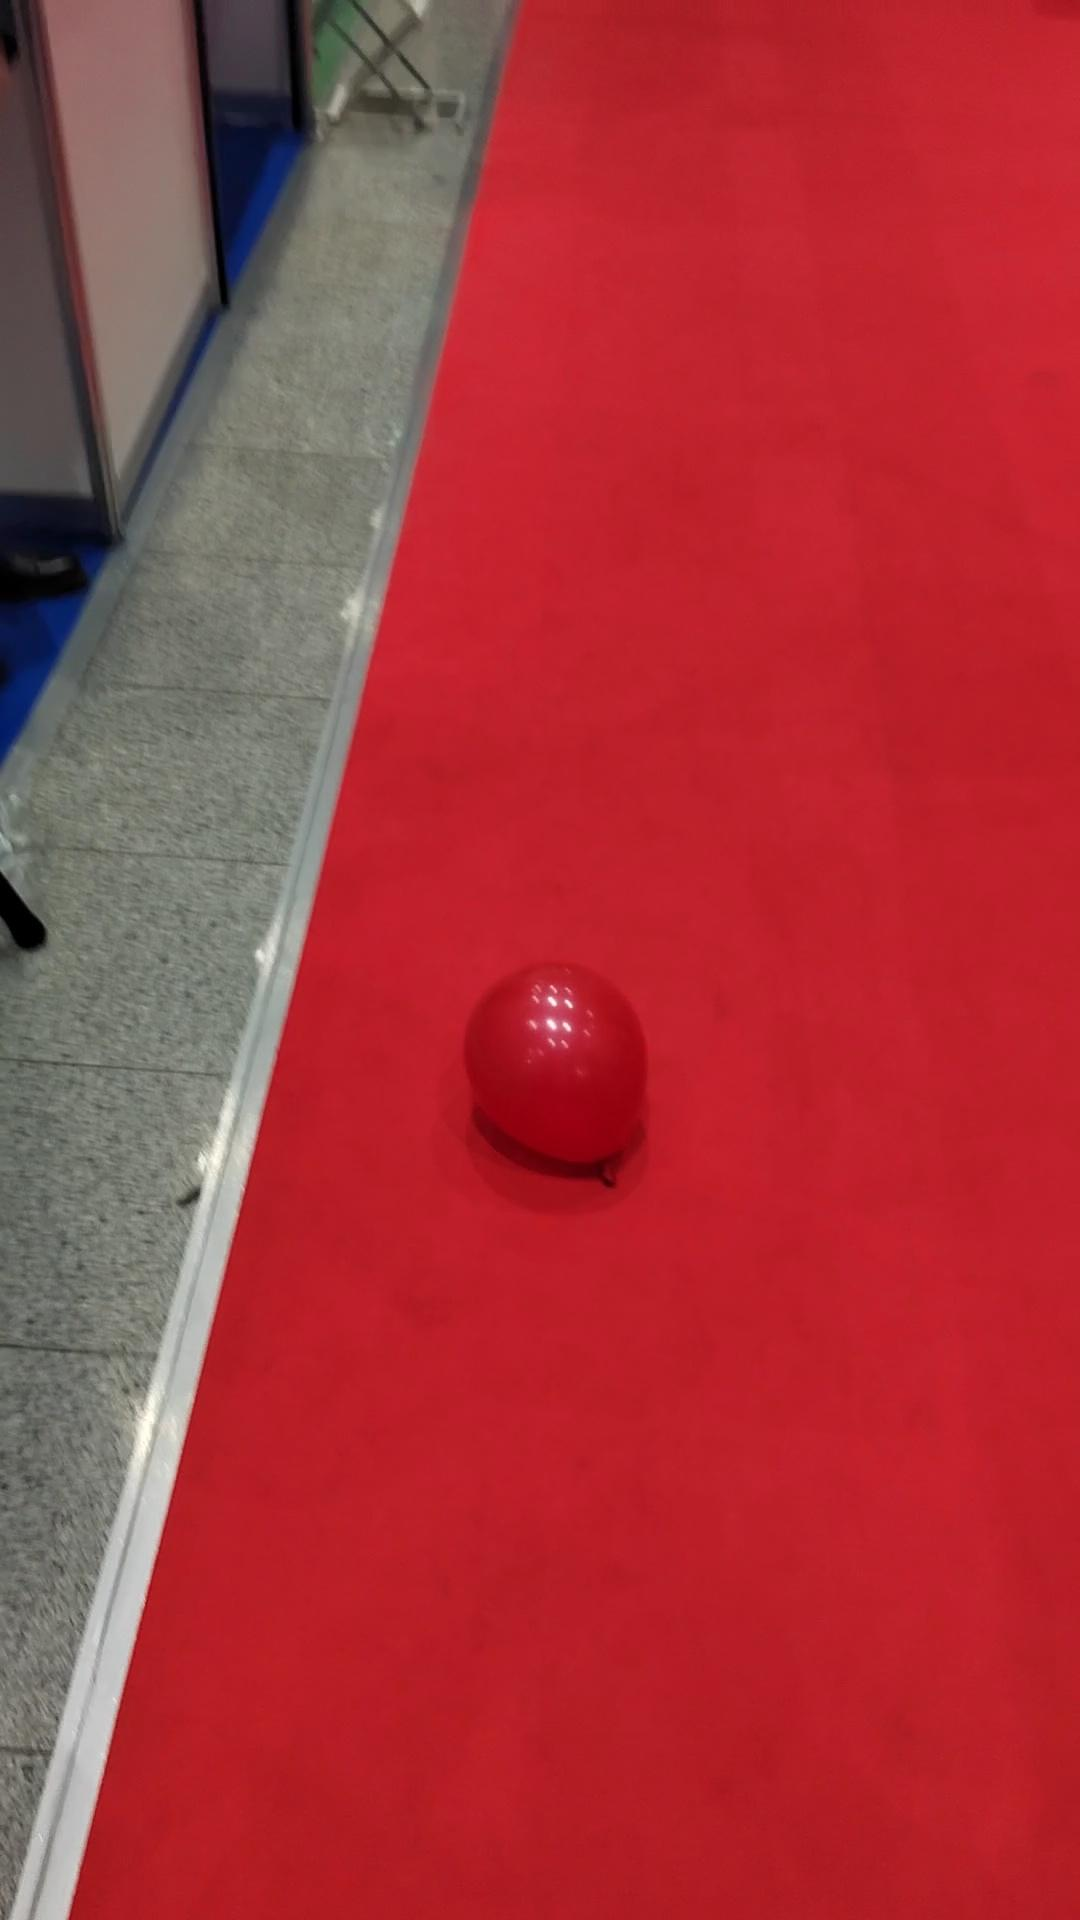red: (465, 964, 649, 1171)
